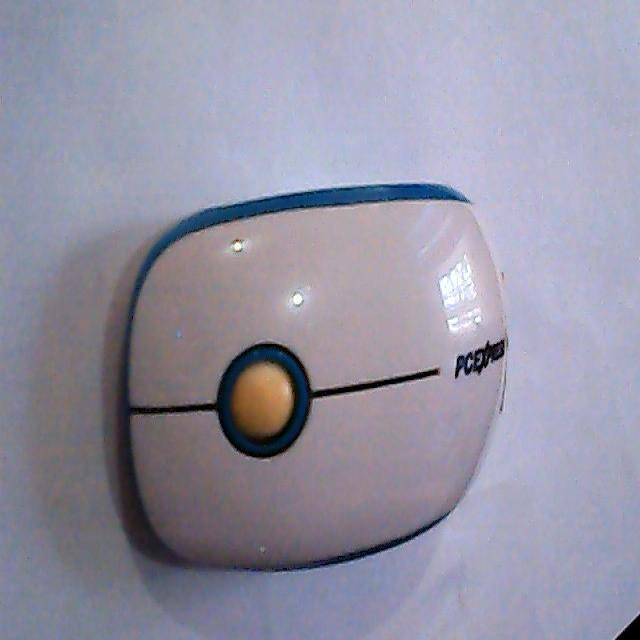Mouse: (119, 178, 512, 578)
